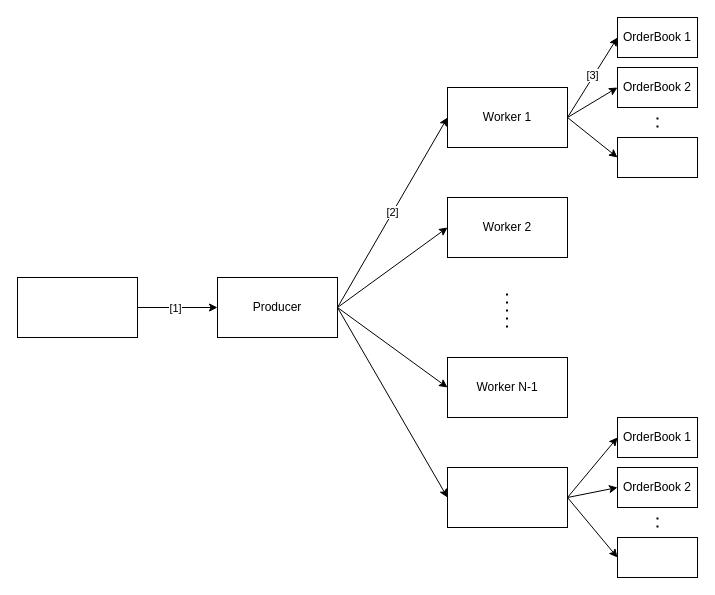
Some shapes in this 715 by 595 pixel diagram are drawn without their labels. The shapes that lost their labels are listed below. From the top down, each one's centre as x and y in pixels, then its label:
At [657,157]: "OrderBook M".
At [77,307]: "Clients".
At [507,497]: "Worker N".
At [657,557]: "OrderBook Z".
